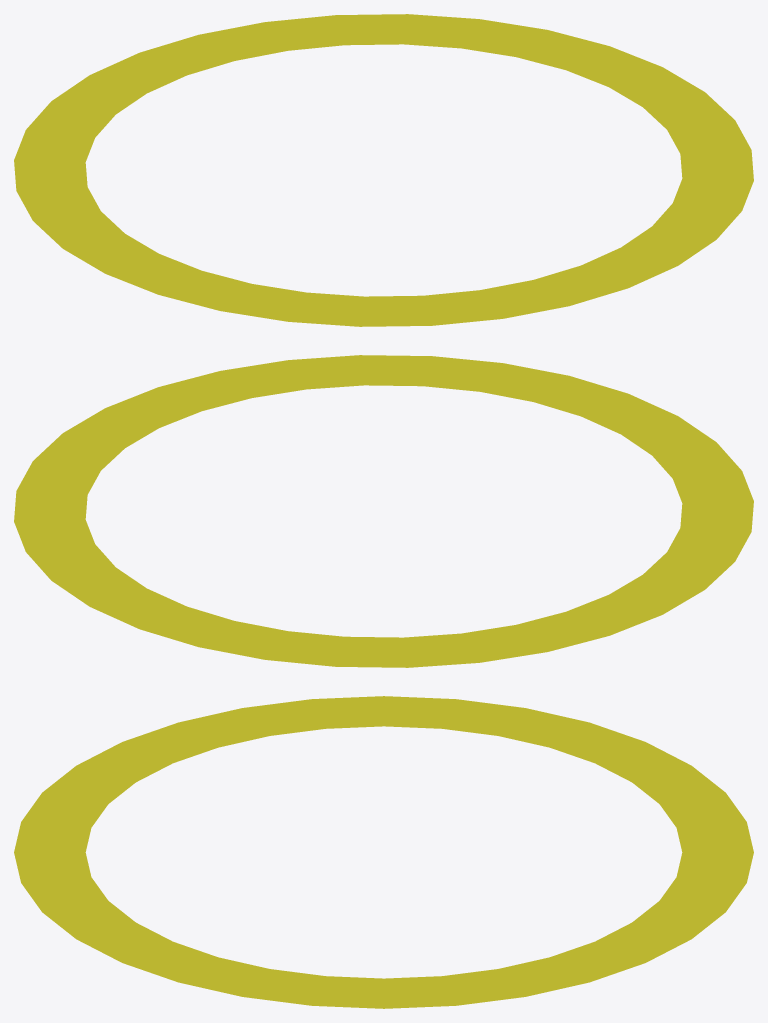
The model's file is piece_selection.dae.
3 renders of one model, top to bottom at view 1: azimuth 30°, elevation 25°; view 2: azimuth 150°, elevation 25°; view 3: azimuth 270°, elevation 25°, orthographic.
Parts seen in each view (by area): view 1: Circle; view 2: Circle; view 3: Circle.
Part boxes in pixels (<box>): Circle: <box>14,14,753,326</box>; Circle: <box>14,355,753,667</box>; Circle: <box>14,696,753,1008</box>.
Bounding box in the file's own units: 0.8224 × 0.8224 × 0.
